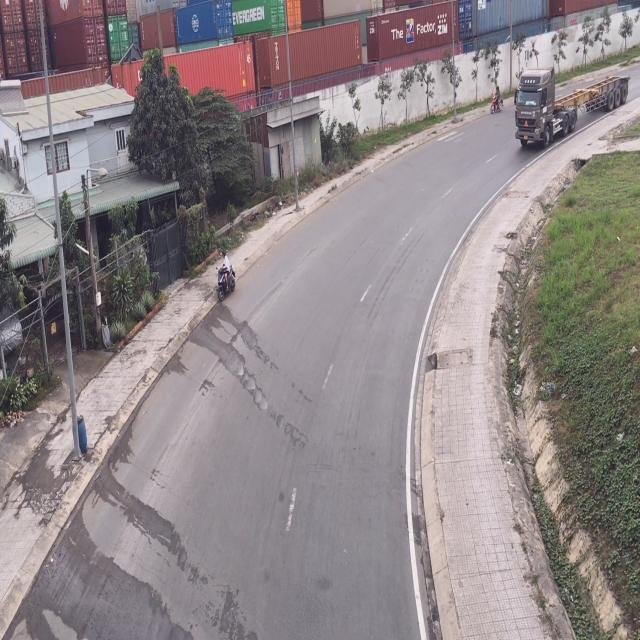motorbike: (216, 253, 236, 304), (491, 79, 504, 115)
truck: (514, 67, 632, 149)
